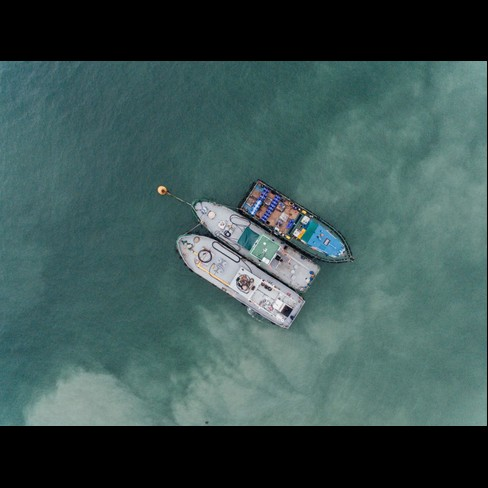boat: (169, 232, 310, 335), (189, 197, 326, 298), (234, 176, 361, 269)
